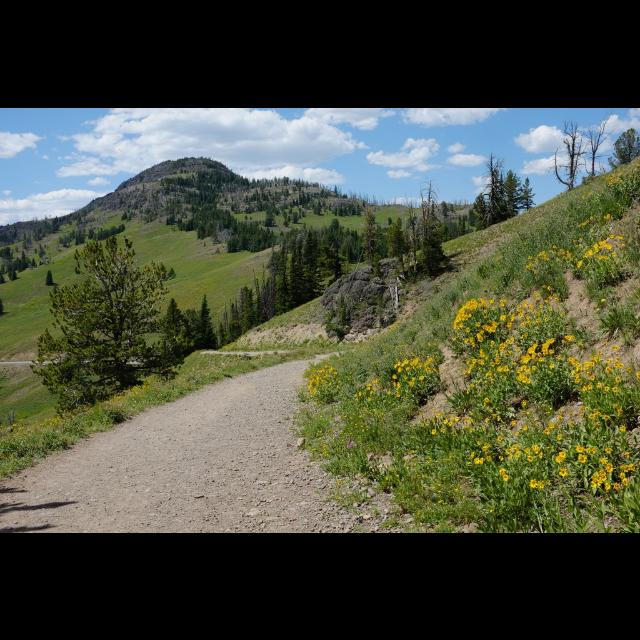Flower: (354, 284, 638, 496), (529, 232, 625, 274), (306, 364, 340, 400), (601, 169, 639, 187), (576, 216, 592, 228), (604, 211, 612, 221), (530, 478, 536, 490), (580, 194, 584, 200), (590, 191, 594, 197)
